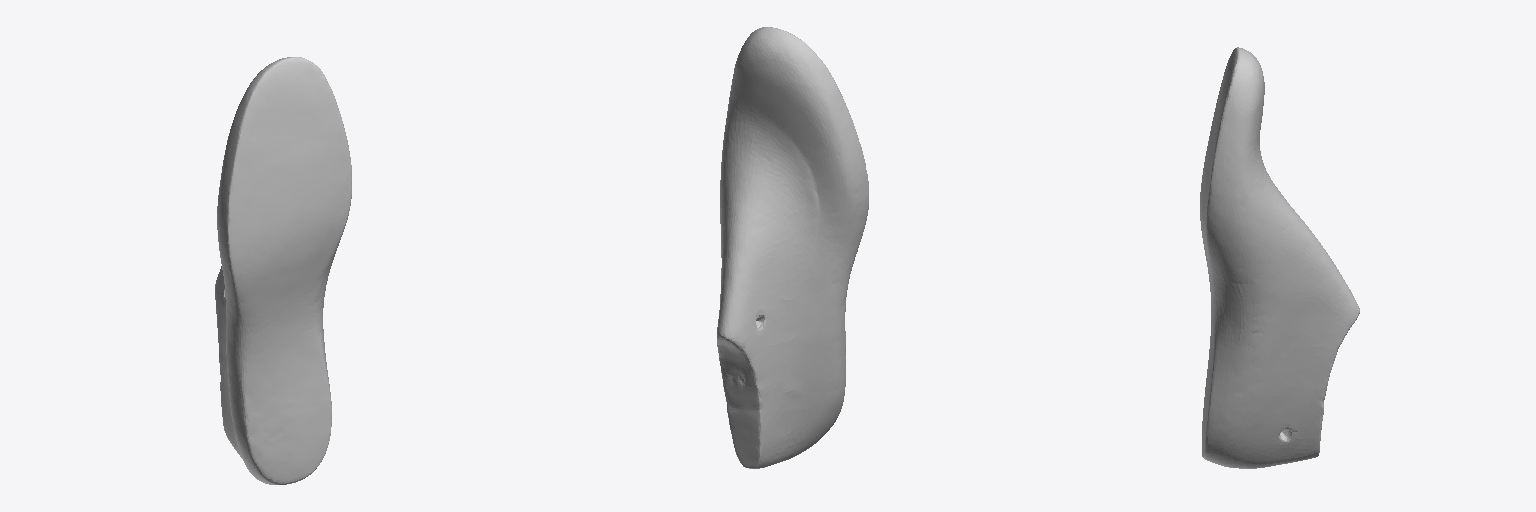
The model's file is shoelast.obj.
3 views of the same model, side by side, from view 1: azimuth 30°, elevation 25°; view 2: azimuth 150°, elevation 25°; view 3: azimuth 270°, elevation 25° (orthographic).
Parts seen in each view (by area): view 1: shoelast_web; view 2: shoelast_web; view 3: shoelast_web.
Part boxes in pixels (bbox=[...]): shoelast_web: bbox=[215, 57, 351, 484]; shoelast_web: bbox=[717, 27, 868, 468]; shoelast_web: bbox=[1200, 47, 1359, 468].
Bounding box in the file's own units: 85.26 × 263 × 90.95.